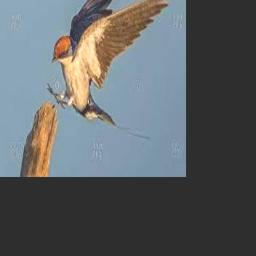Swallow: (47, 0, 174, 139)
